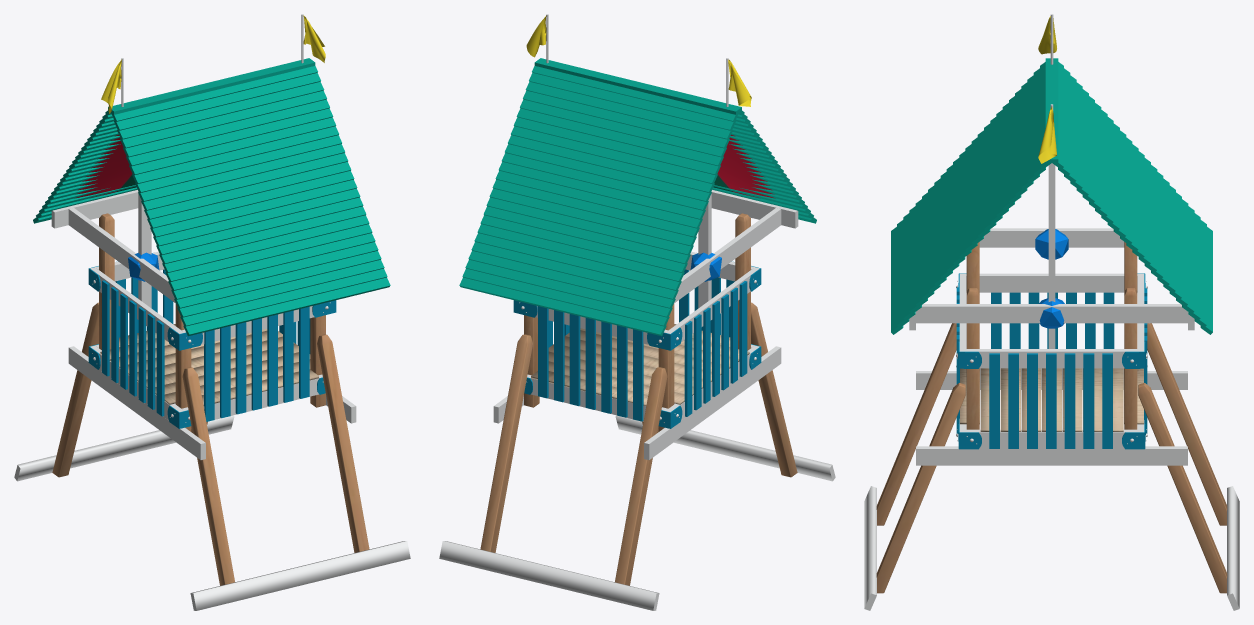
Rendered from P-ST.bed2df0d.glb.
3 renders of one model, left to right at view 1: azimuth 30°, elevation 25°; view 2: azimuth 150°, elevation 25°; view 3: azimuth 270°, elevation 25°, orthographic. The views are drawn at different scales.
Parts seen in each view (by area): view 1: roof_poly, Plane091, Plane091_1.001, Plane091_1, roof_poly_1, Summit_corner001,_colorize_, roof_canopy,#004983,#01664b,#ffcb05,#93293b,tricolors, fence,_colorize__2, fence,_colorize__3, fence,_colorize__1, fence,_colorize__24, fence,_colorize__4 (+9 smaller); view 2: roof_poly, Plane091, Plane091_1.001, Plane091_1, roof_poly_1, Summit_corner001,_colorize_, roof_canopy,#004983,#01664b,#ffcb05,#93293b,tricolors, fence,_colorize__14, fence,_colorize__12, fence,_colorize__15, fence,_colorize__16, fence,_colorize__17 (+10 smaller); view 3: roof_poly, Plane091, Plane091_1.001, Plane091_1, Summit_corner001,_colorize_, fence,_colorize__10, fence,_colorize__9, fence,_colorize__11, fence,_colorize__26, fence,_colorize__6, fence,_colorize__7, fence,_colorize__8 (+4 smaller).
Part boxes in pixels (x1,y1,x2,y2): roof_poly: [33, 66, 390, 336]; Plane091: [14, 190, 410, 610]; Plane091_1.001: [52, 213, 369, 585]; Plane091_1: [100, 324, 318, 405]; roof_poly_1: [108, 58, 315, 114]; Summit_corner001,_colorize_: [88, 266, 336, 428]; roof_canopy,#004983,#01664b,#ffcb05,#93293b,tricolors: [74, 134, 136, 198]; fence,_colorize__2: [235, 322, 246, 414]; fence,_colorize__3: [267, 314, 277, 406]; fence,_colorize__1: [220, 326, 230, 418]; fence,_colorize__24: [251, 318, 261, 410]; fence,_colorize__4: [283, 310, 293, 402]; roof_poly: [459, 66, 816, 336]; Plane091: [439, 190, 835, 610]; Plane091_1.001: [480, 213, 797, 585]; Plane091_1: [531, 324, 749, 405]; roof_poly_1: [534, 58, 741, 114]; Summit_corner001,_colorize_: [513, 266, 761, 428]; roof_canopy,#004983,#01664b,#ffcb05,#93293b,tricolors: [713, 134, 775, 198]; fence,_colorize__14: [569, 314, 580, 406]; fence,_colorize__12: [538, 306, 548, 398]; fence,_colorize__15: [601, 321, 611, 413]; fence,_colorize__16: [617, 325, 627, 417]; fence,_colorize__17: [633, 329, 643, 421]; roof_poly: [891, 62, 1212, 334]; Plane091: [864, 163, 1239, 610]; Plane091_1.001: [876, 242, 1227, 593]; Plane091_1: [960, 368, 1143, 431]; Summit_corner001,_colorize_: [958, 273, 1145, 449]; fence,_colorize__10: [1083, 353, 1094, 448]; fence,_colorize__9: [1064, 353, 1075, 448]; fence,_colorize__11: [1102, 353, 1112, 448]; fence,_colorize__26: [1046, 353, 1056, 448]; fence,_colorize__6: [989, 353, 999, 448]; fence,_colorize__7: [1008, 353, 1018, 448]; fence,_colorize__8: [1027, 353, 1037, 448].
Bounding box in the file's own units: 2.21 × 4.55 × 3.11.
36 materials, 3 textured.
